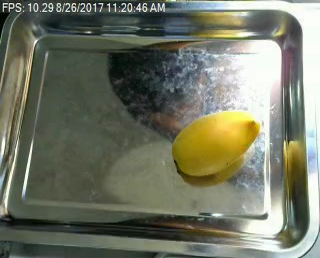Mango: (172, 109, 261, 177)
